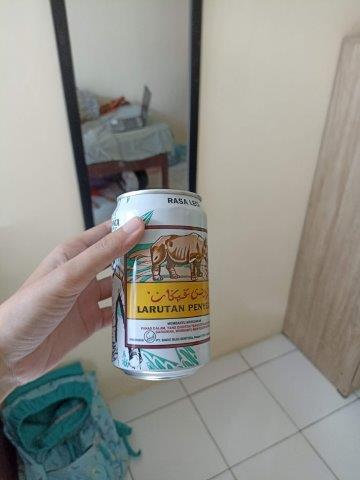kaleng: (110, 192, 212, 378)
